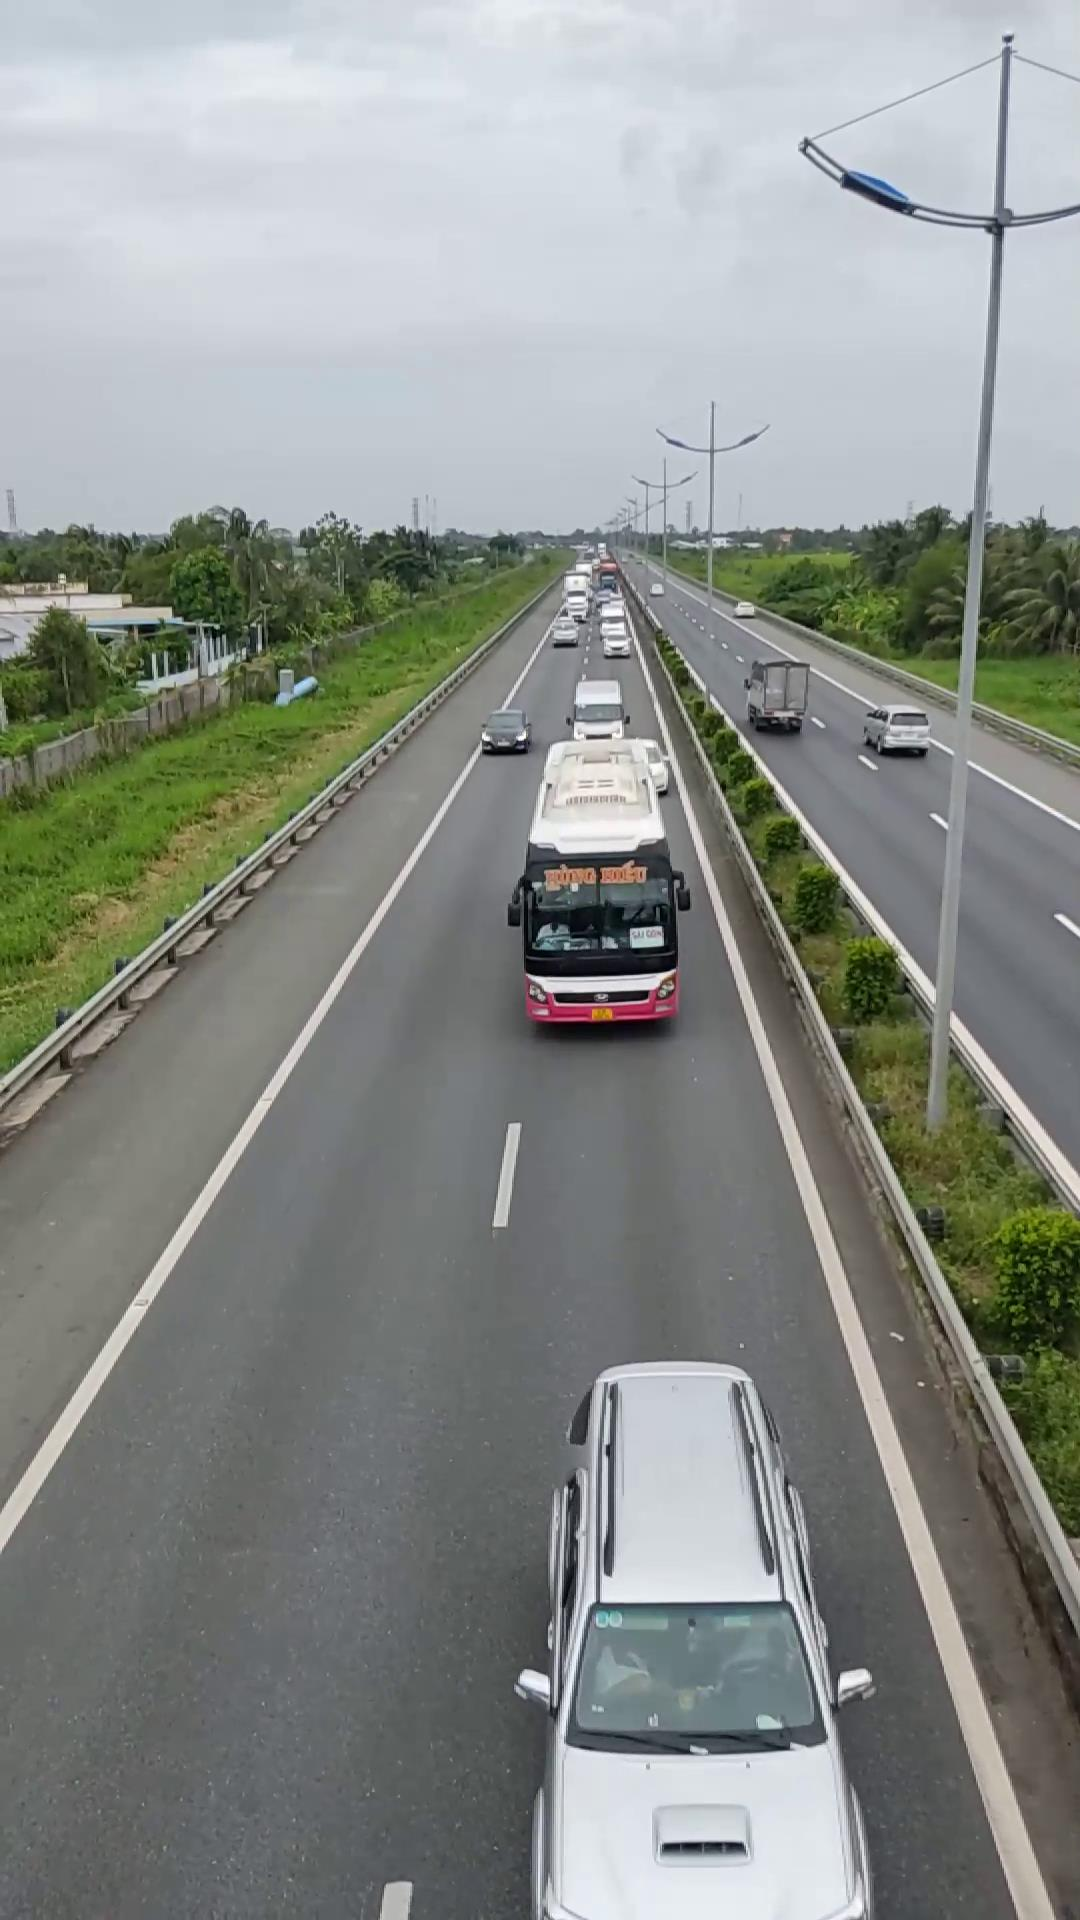bus: (508, 741, 687, 1030)
car: (522, 1357, 881, 1918)
truck: (743, 653, 809, 731)
